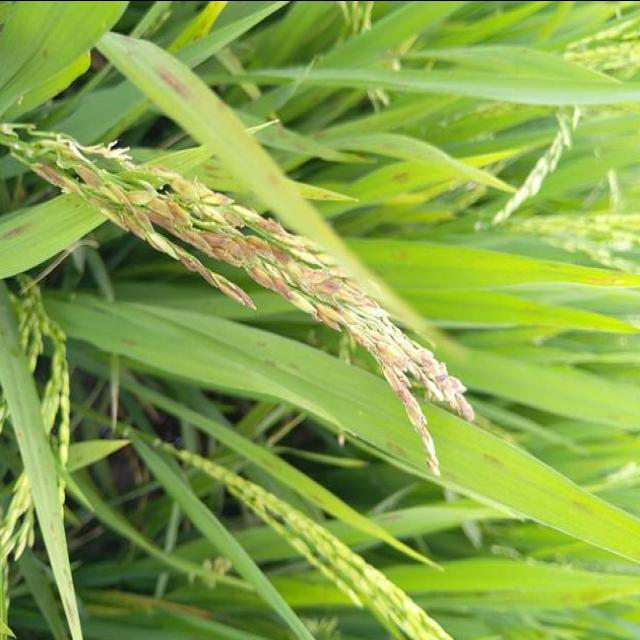Leaf Streak: (155, 69, 188, 99)
Panicle Blight: (0, 130, 473, 475)
